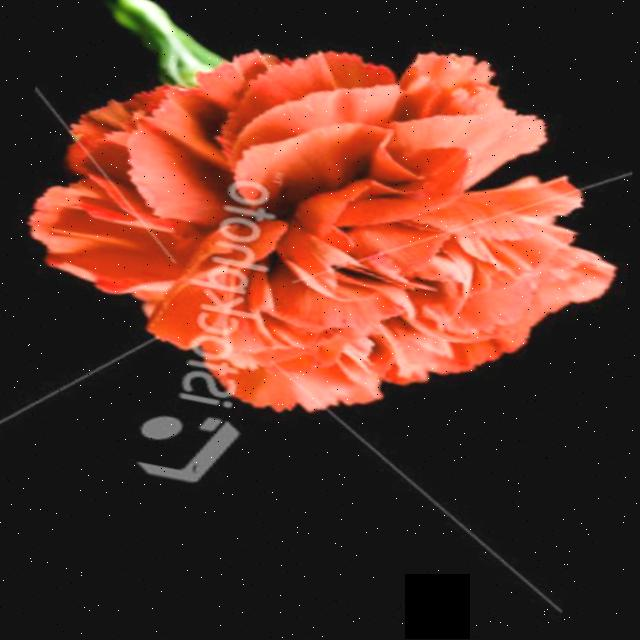carnation: (3, 0, 640, 471)
